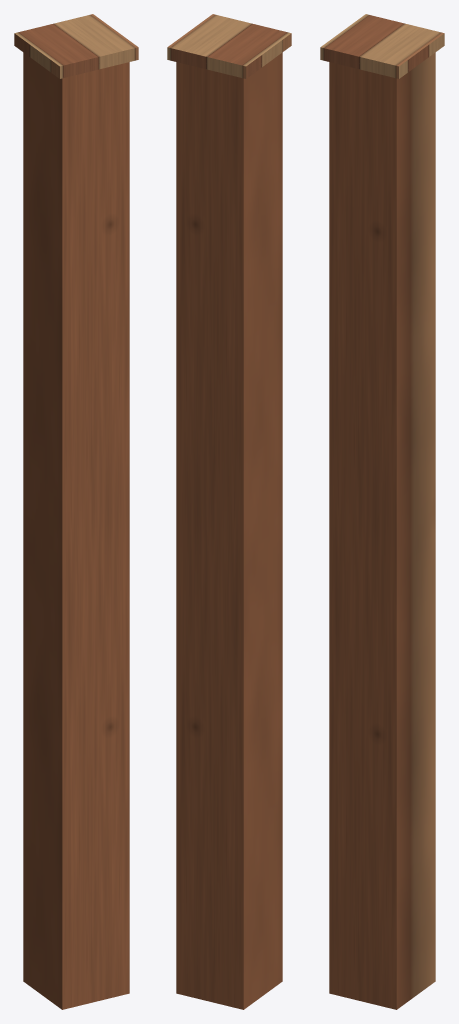
The model's file is fence_privacy_corner_post.gltf.
The picture shows the model from 3 angles, left to right: view 1: azimuth 30°, elevation 25°; view 2: azimuth 150°, elevation 25°; view 3: azimuth 330°, elevation 25°; orthographic projection.
Visible parts, largest first — view 1: fence_privacy_corner_post; view 2: fence_privacy_corner_post; view 3: fence_privacy_corner_post.
Boxes of the visible parts, x1=… form: fence_privacy_corner_post: x1=14, y1=14, x2=138, y2=1009; fence_privacy_corner_post: x1=167, y1=14, x2=291, y2=1009; fence_privacy_corner_post: x1=320, y1=14, x2=444, y2=1009.
Bounding box in the file's own units: 0.164 × 1.88 × 0.164.
1 material, 1 textured.
